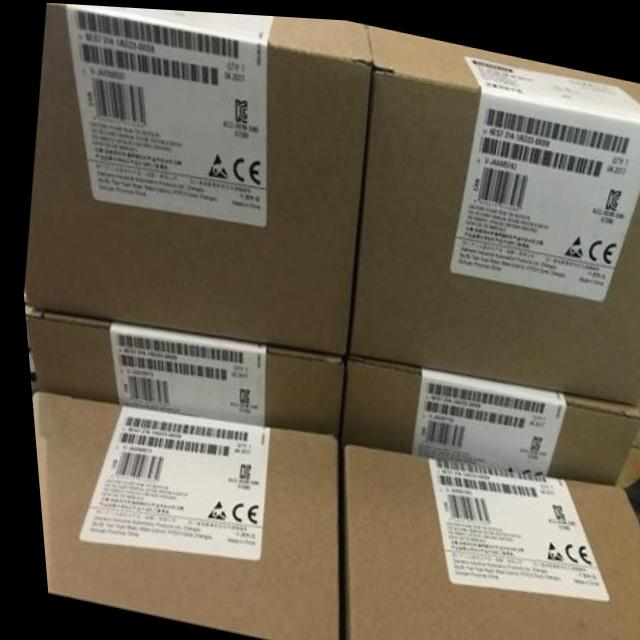box: (19, 2, 372, 351), (343, 22, 640, 400), (25, 390, 331, 640), (329, 440, 640, 640), (20, 307, 339, 436), (336, 352, 634, 479)
